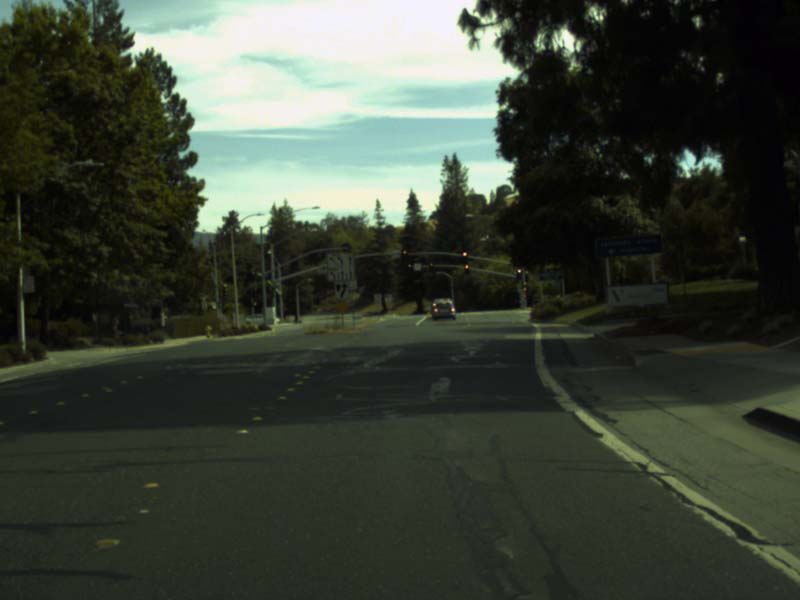Red: (463, 263, 469, 273), (402, 249, 407, 261), (406, 263, 412, 273), (516, 268, 521, 279), (462, 251, 467, 262)
